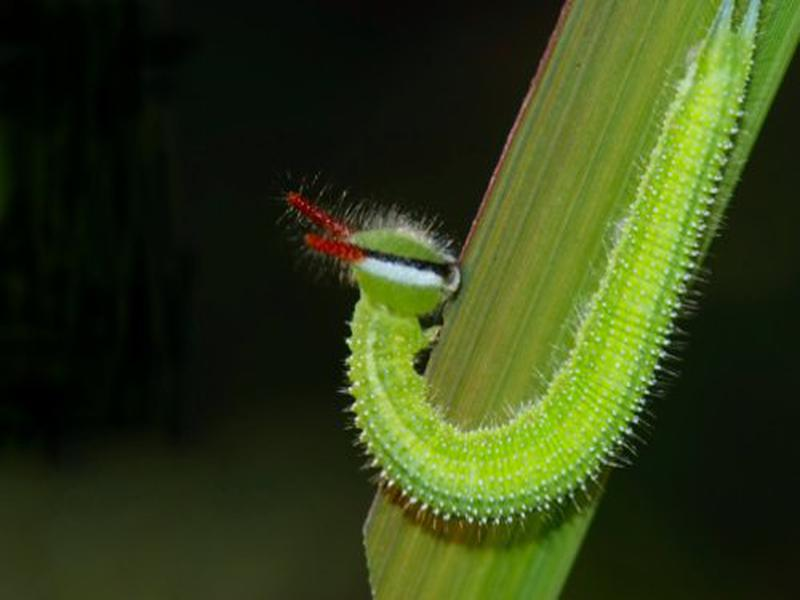Rice_horned_caterpillar: (297, 13, 762, 539)
